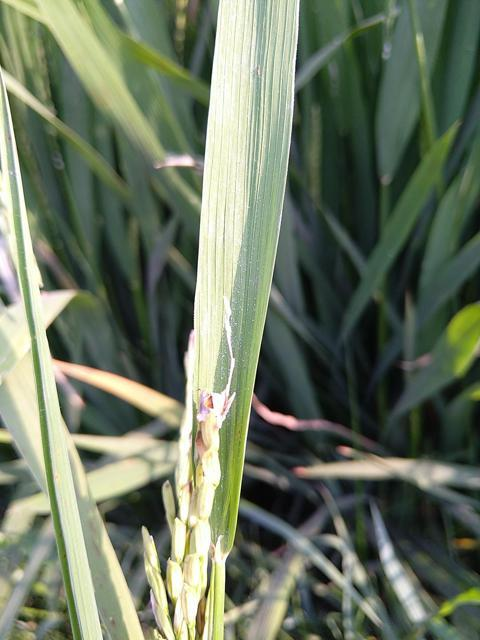Panicle Blight: (194, 389, 235, 489), (195, 595, 212, 639)
